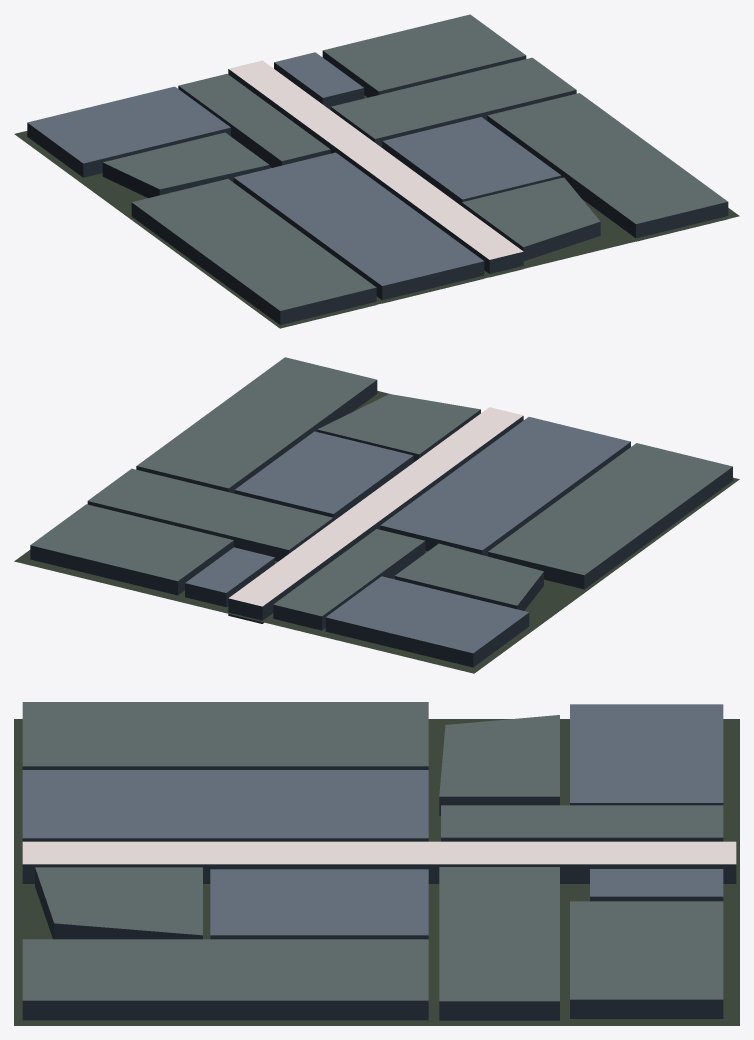
File: Environment_Floor_6_Detail.fbx
3 renders of one model, top to bottom at view 1: azimuth 30°, elevation 25°; view 2: azimuth 150°, elevation 25°; view 3: azimuth 270°, elevation 25°, orthographic. The views are drawn at different scales.
Visible parts, largest first — view 1: Floor_6_Detail; view 2: Floor_6_Detail; view 3: Floor_6_Detail.
Part boxes in pixels (box(x1,y1,x2,y2)): Floor_6_Detail: box(14, 14, 739, 328); Floor_6_Detail: box(14, 357, 739, 673); Floor_6_Detail: box(14, 702, 739, 1025).
Size of the model in its own units: 400 by 14.56 by 400.
